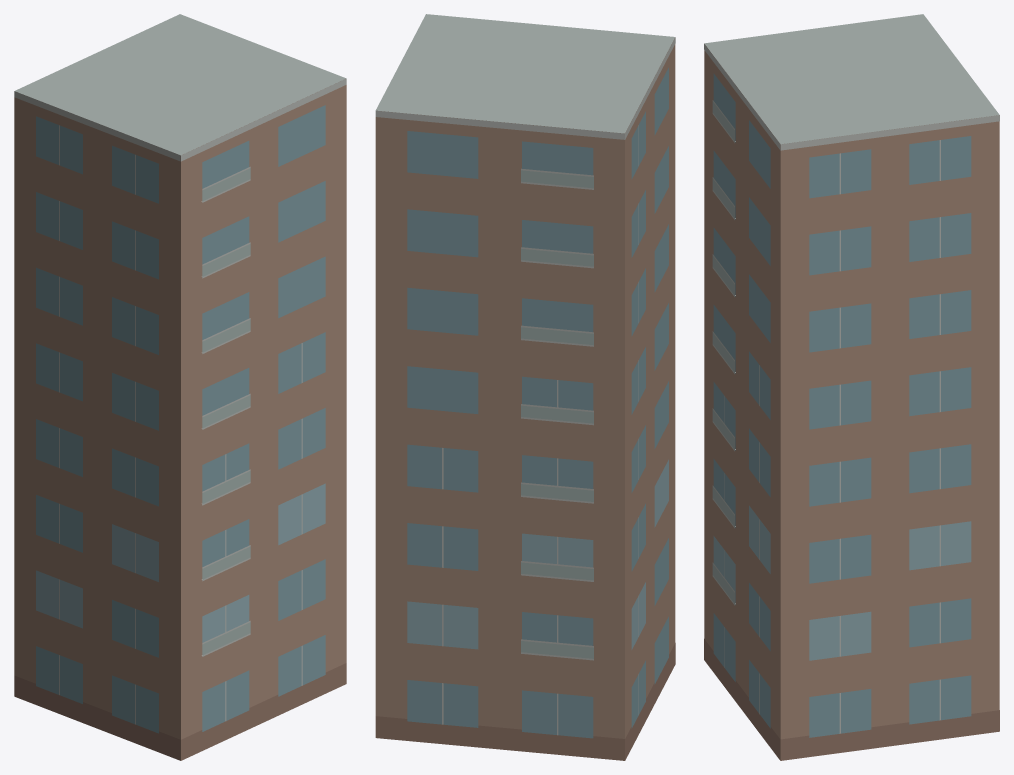
File: survey-upis-32570838.glb
The picture shows the model from 3 angles, left to right: view 1: azimuth 30°, elevation 25°; view 2: azimuth 150°, elevation 25°; view 3: azimuth 270°, elevation 25°; orthographic projection. The views are drawn at different scales.
Visible parts, largest first — view 1: survey-upis-32570838.tmp; view 2: survey-upis-32570838.tmp; view 3: survey-upis-32570838.tmp.
Part boxes in pixels (bbox=[...]): survey-upis-32570838.tmp: bbox=[14, 14, 346, 760]; survey-upis-32570838.tmp: bbox=[375, 14, 675, 760]; survey-upis-32570838.tmp: bbox=[704, 14, 999, 760].
Size of the model in its own units: 10.79 by 23.8 by 10.35.
